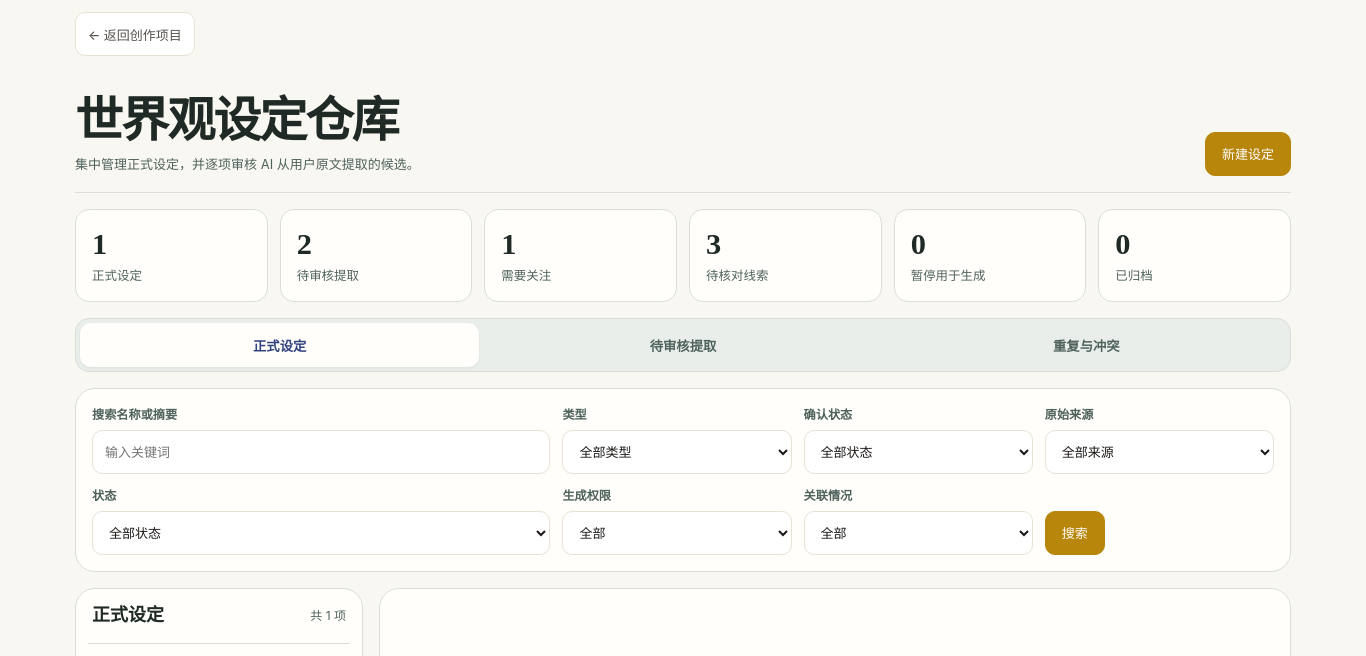
Scenario: LoreRepositoryPage › opens a separate formal-lore review scope without mixing candidate attention
Check: the text "待审核提取" is shown, box [297,268,359,283]
Check: the text "需要关注" is shown, box [501,268,551,283]
What coordinates should you click on to do the following:
click the button "重复与冲突"
I would click on:
 (1086, 345)
Its box is [887,323,1286,367].
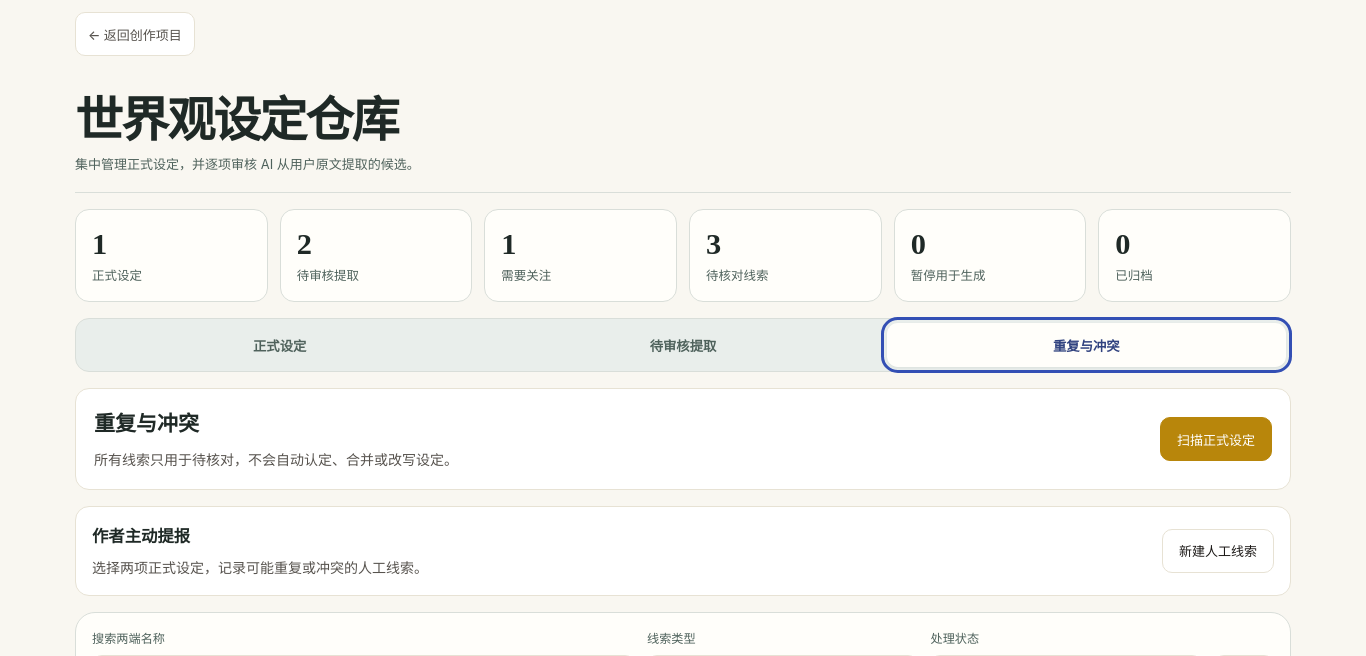
Check: the heading "重复与冲突" is shown, box [94,411,199,436]
Check: the text "所有线索只用于待核对，不会自动认定、合并或改写设定。" is shown, box [94,448,458,471]
